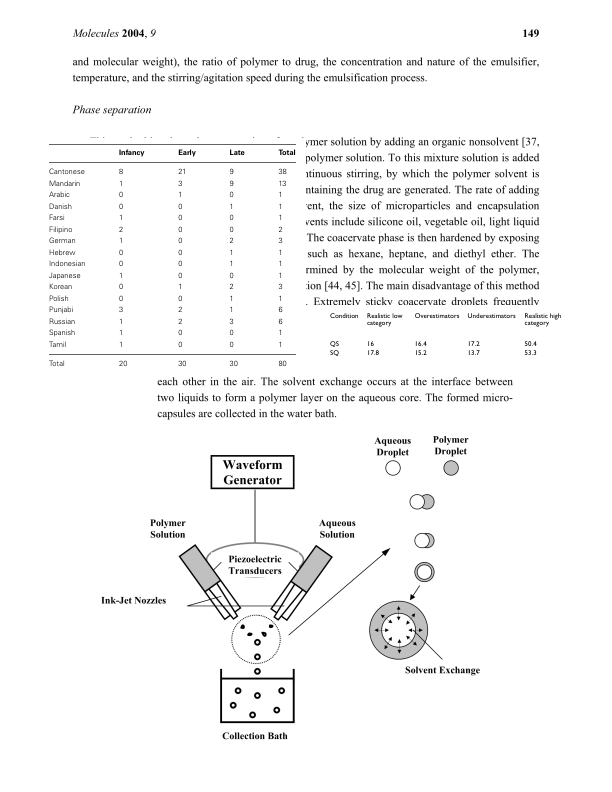borderless: (47, 143, 297, 369), (324, 310, 564, 368)
cell: (523, 312, 562, 328), (365, 312, 403, 328), (466, 312, 516, 321), (413, 312, 460, 321), (48, 260, 86, 269), (48, 168, 85, 177), (48, 180, 81, 189), (48, 272, 81, 281), (329, 312, 359, 321), (117, 149, 145, 158), (48, 237, 76, 246), (48, 249, 76, 258), (48, 318, 76, 327), (48, 329, 76, 338), (48, 306, 74, 315), (48, 226, 73, 235), (48, 283, 73, 292), (48, 203, 72, 212), (48, 191, 70, 200), (48, 295, 69, 304), (177, 149, 196, 158), (277, 149, 296, 158), (48, 341, 67, 350), (228, 149, 245, 158), (48, 214, 65, 223), (48, 360, 65, 369), (413, 340, 427, 349), (466, 340, 480, 349), (523, 340, 537, 349), (365, 349, 379, 358), (413, 349, 427, 358), (466, 349, 480, 358), (523, 349, 537, 358), (117, 360, 128, 369), (177, 168, 187, 177), (277, 168, 287, 177), (277, 180, 287, 189), (177, 360, 187, 369), (228, 360, 238, 369), (277, 360, 287, 369), (329, 340, 339, 349), (329, 349, 339, 358), (365, 340, 374, 349), (117, 168, 124, 177), (117, 180, 124, 189), (117, 191, 124, 200), (117, 203, 124, 212), (117, 214, 124, 223), (117, 226, 124, 235), (117, 237, 124, 246), (117, 249, 124, 258), (117, 260, 124, 269), (117, 272, 124, 281), (117, 283, 124, 292), (117, 295, 124, 304), (117, 306, 124, 315), (117, 318, 124, 327), (117, 329, 124, 338), (117, 341, 124, 350), (228, 168, 234, 177), (177, 180, 183, 189), (228, 180, 234, 189), (177, 191, 183, 200), (228, 191, 234, 200), (277, 191, 283, 200), (177, 203, 183, 212), (228, 203, 234, 212), (277, 203, 283, 212), (177, 214, 183, 223), (228, 214, 234, 223), (277, 214, 283, 223), (177, 226, 183, 235), (228, 226, 234, 235), (277, 226, 283, 235), (177, 237, 183, 246), (228, 237, 234, 246), (277, 237, 283, 246), (177, 249, 183, 258), (228, 249, 234, 258), (277, 249, 283, 258), (177, 260, 183, 269), (228, 260, 234, 269), (277, 260, 283, 269), (177, 272, 183, 281), (228, 272, 234, 281), (277, 272, 283, 281), (177, 283, 183, 292), (228, 283, 234, 292), (277, 283, 283, 292), (177, 295, 183, 304), (228, 295, 234, 304), (277, 295, 283, 304), (177, 306, 183, 315), (228, 306, 234, 315), (277, 306, 283, 315), (177, 318, 183, 327), (228, 318, 234, 327), (277, 318, 283, 327), (177, 329, 183, 338), (228, 329, 234, 338), (277, 329, 283, 338), (177, 341, 183, 350), (228, 341, 234, 350), (277, 341, 283, 350)
